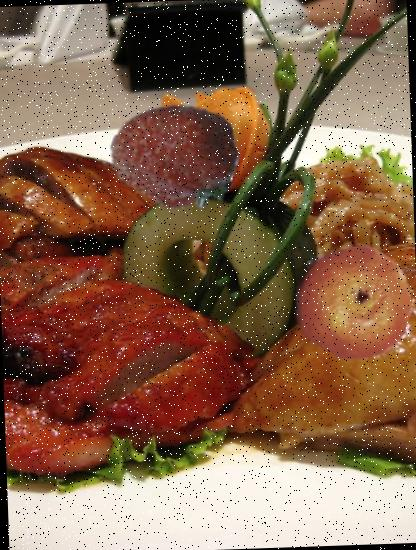Clementine: (289, 239, 415, 365)
Strawberry: (110, 88, 240, 219)
